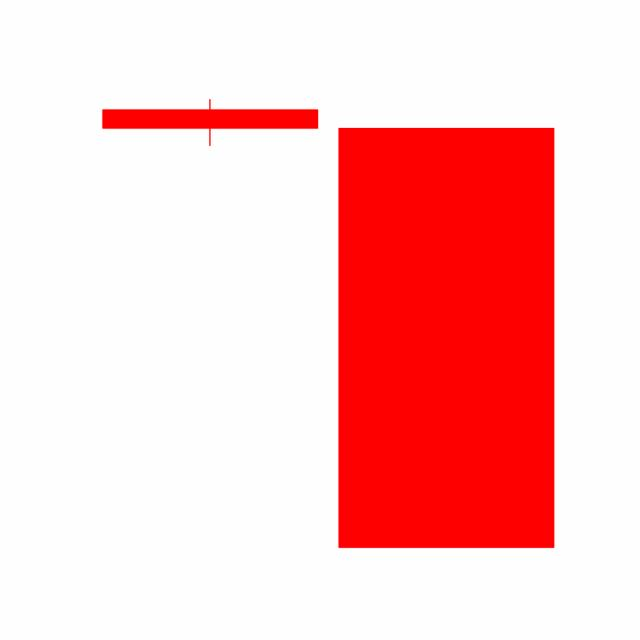Marubozu: (327, 123, 565, 552)
